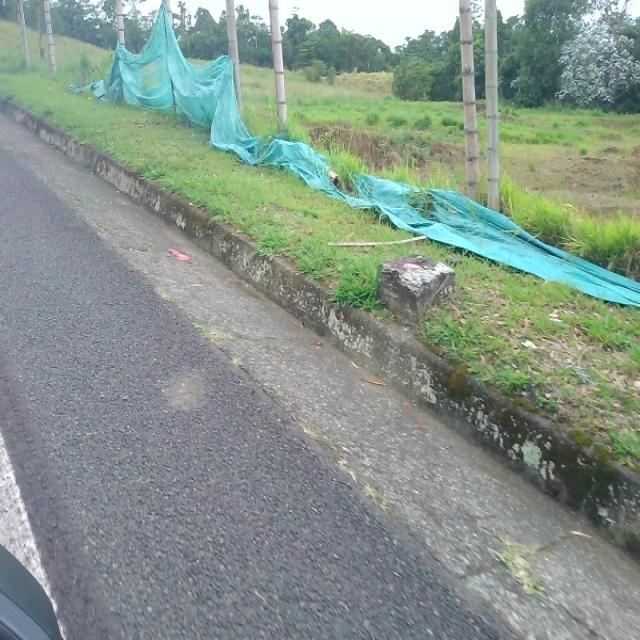DITCH: (1, 98, 638, 638), (1, 103, 638, 637)
